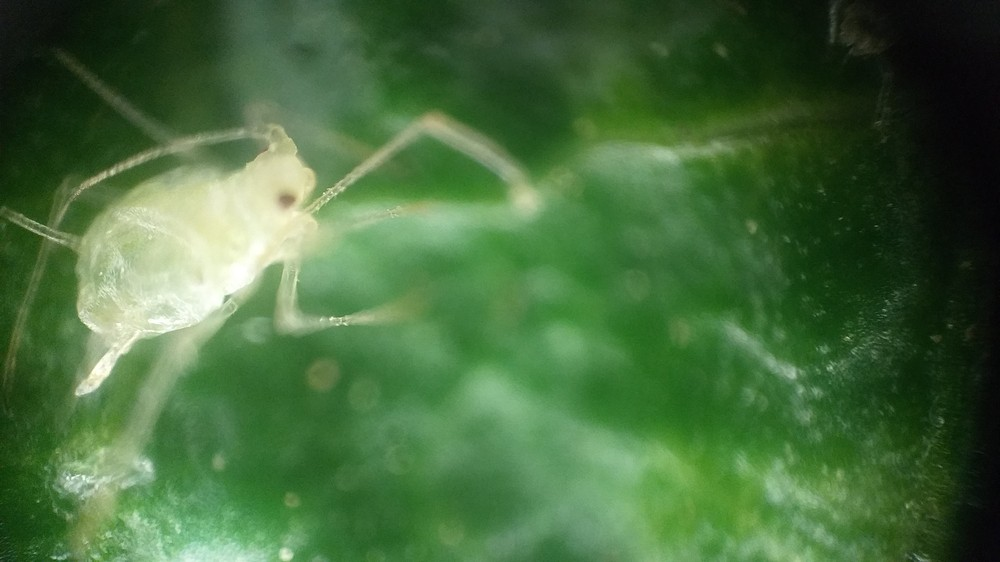Pulgon: (19, 46, 548, 446)
